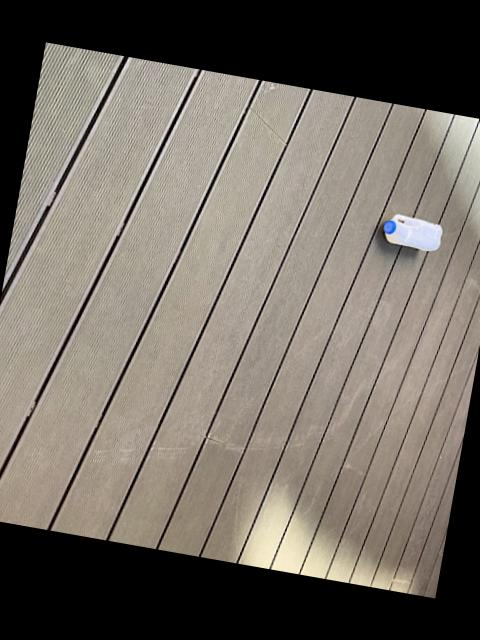plastic: (383, 213, 443, 249)
